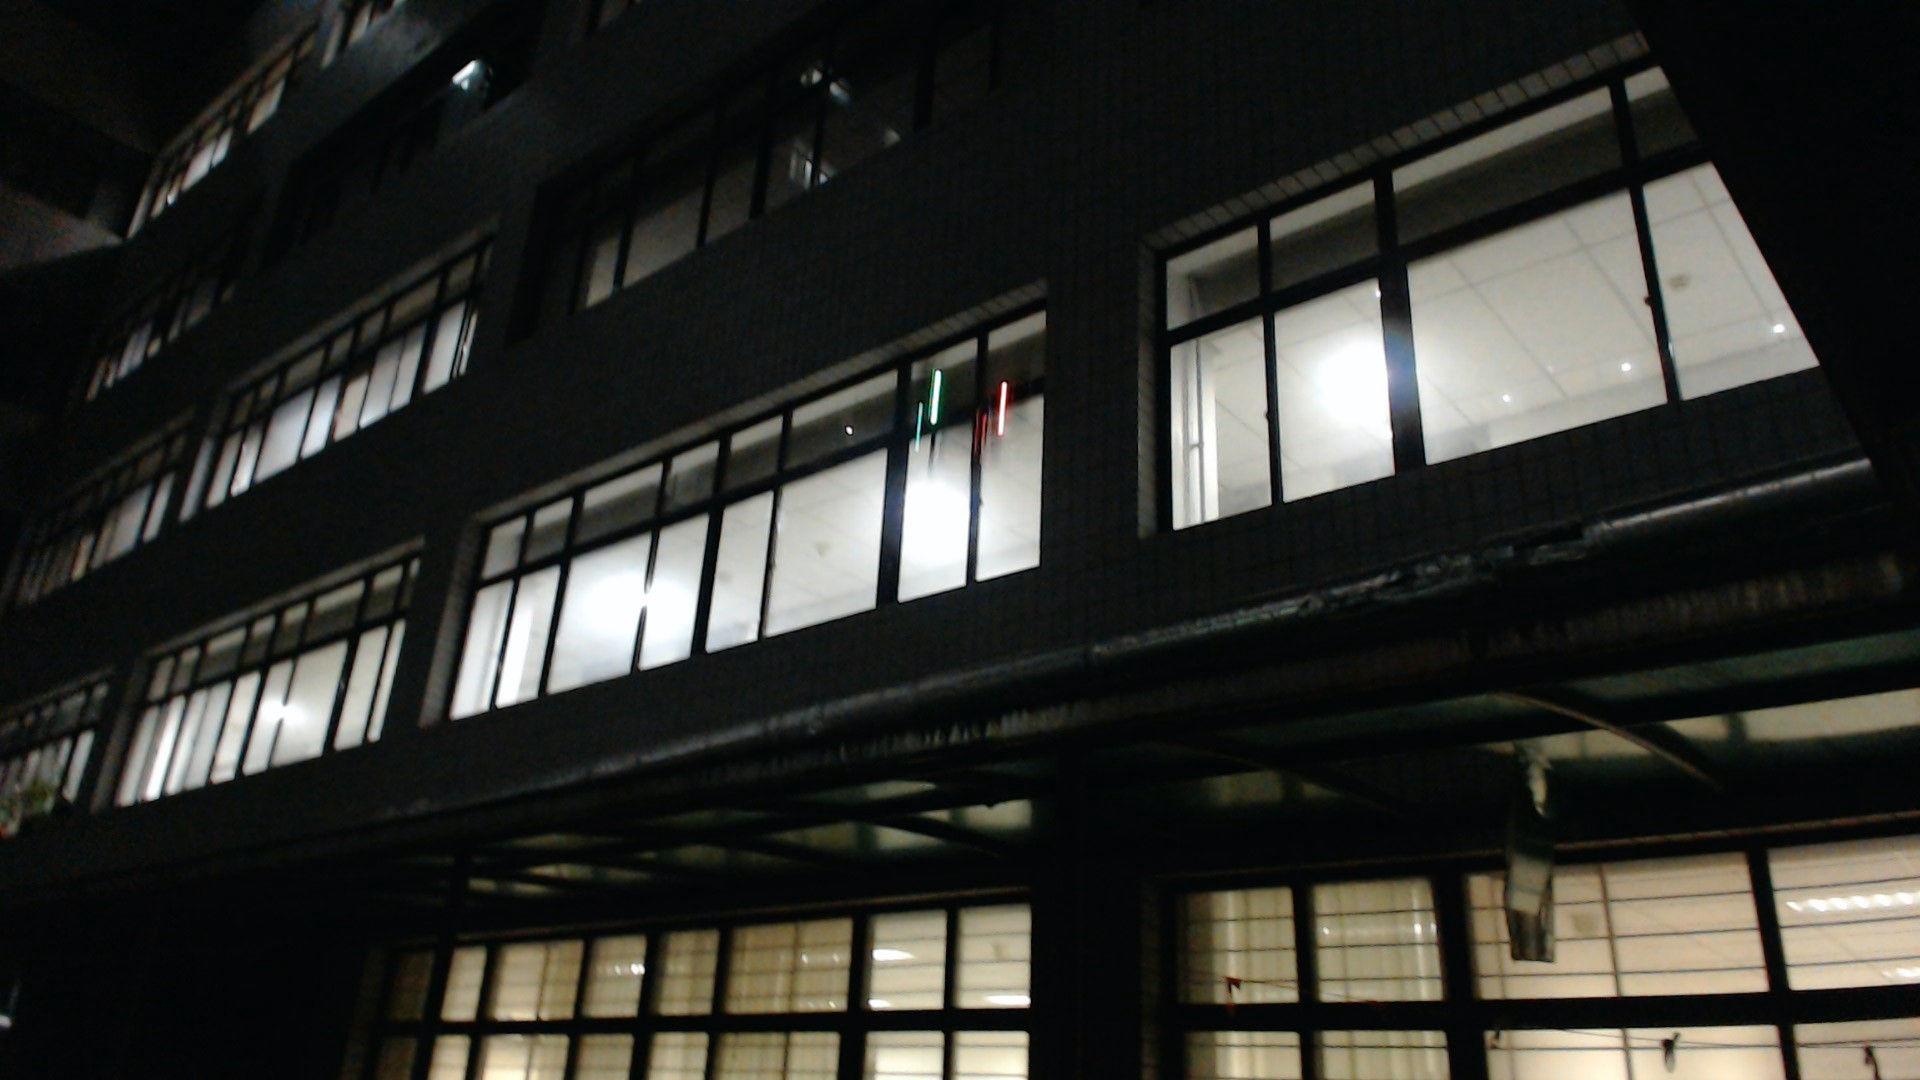test_drone: (855, 359, 1058, 473)
